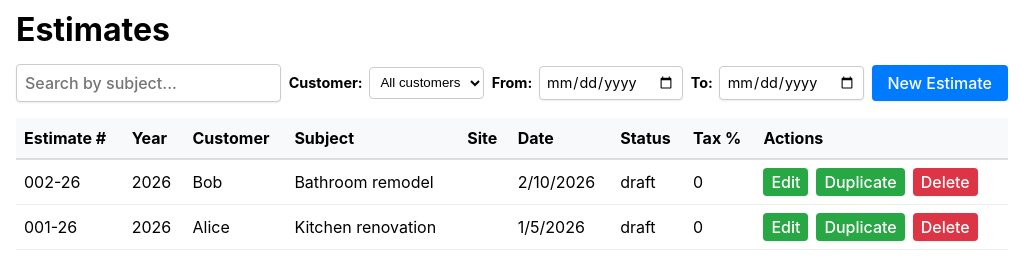
Test: EstimatesListPage › filters by a creation-date range
Expected: the text "Kitchen renovation" is shown, x1=286 y1=204 x2=459 y2=249
In the date field labelled "From:": (611, 83) x1=539 y1=66 x2=683 y2=100, type "2026-02-01"
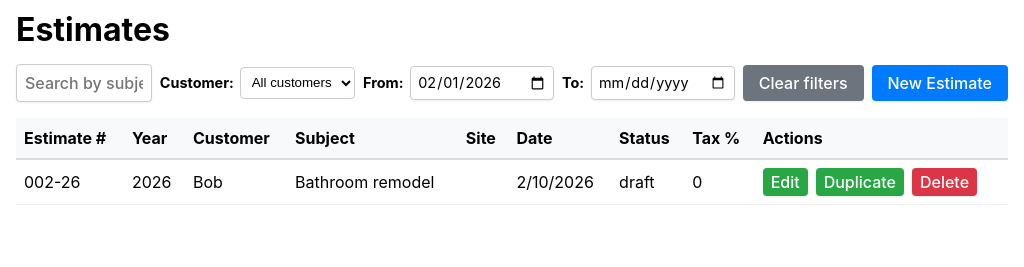
Expected: the text "Bathroom remodel" is shown, x1=287 y1=159 x2=458 y2=204
Expected: the text "Kitchen renovation" is gone
In the date field labelled "To:": (663, 83) x1=591 y1=66 x2=735 y2=100, type "2026-02-05"
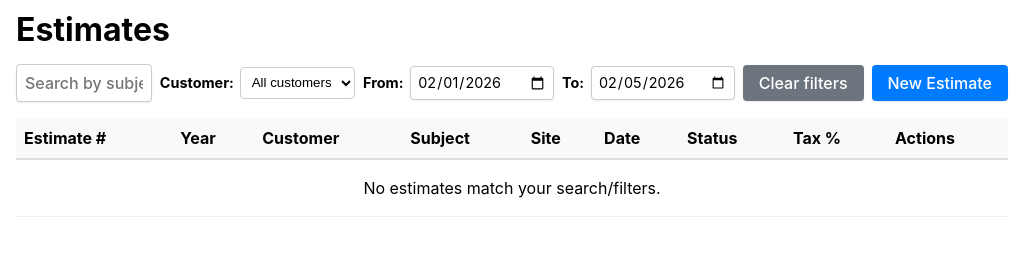
Expected: the text "Bathroom remodel" is gone
